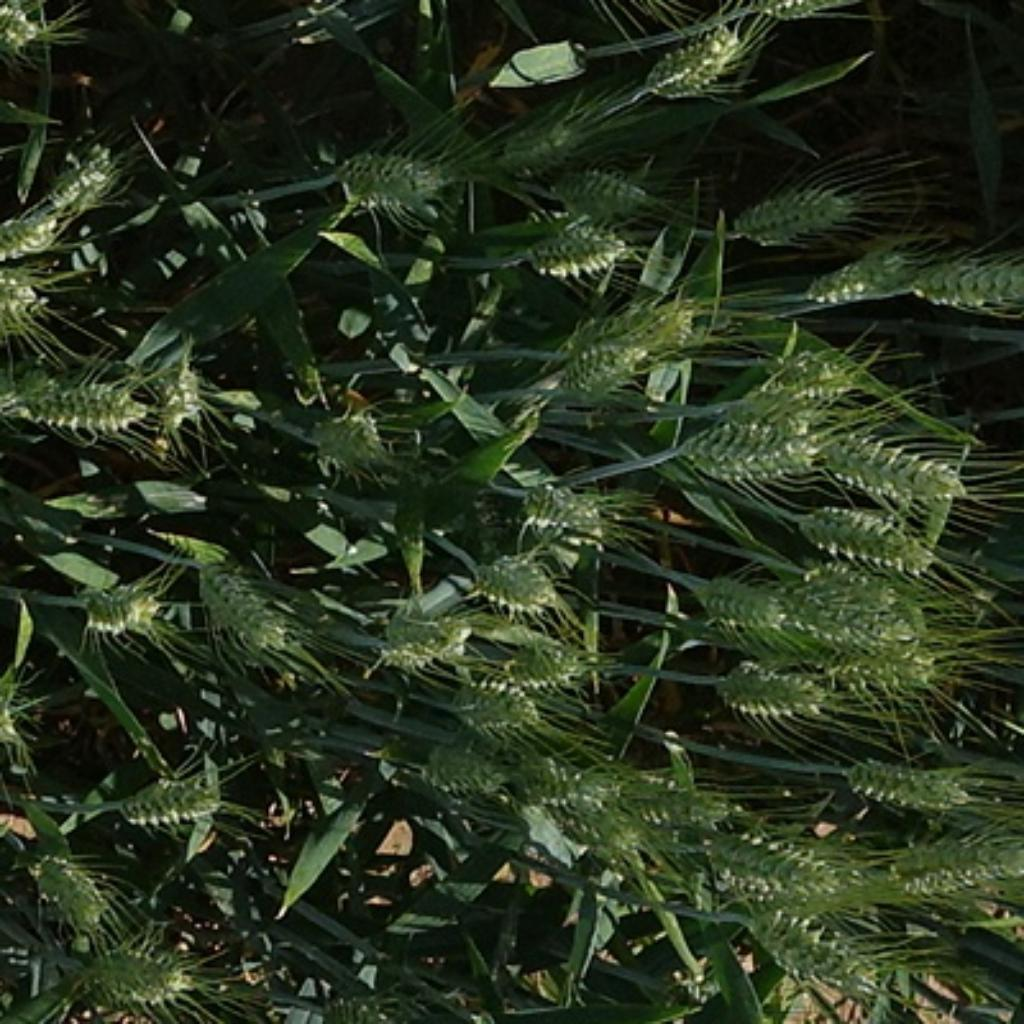0-0: (808, 417, 972, 506), (670, 396, 824, 488), (734, 903, 888, 988), (696, 821, 852, 901), (192, 547, 302, 659), (481, 101, 628, 183), (7, 364, 152, 441), (332, 135, 463, 220), (576, 281, 717, 358), (765, 588, 926, 655), (719, 174, 862, 245), (739, 337, 878, 409), (814, 634, 947, 706), (832, 747, 972, 814), (706, 652, 834, 724), (793, 501, 939, 563), (893, 829, 1024, 898), (640, 25, 749, 107), (373, 588, 473, 675), (35, 133, 133, 220), (118, 766, 235, 836), (79, 931, 184, 1008), (929, 235, 1024, 320), (512, 212, 632, 279), (509, 471, 624, 540), (801, 240, 924, 304), (69, 568, 171, 645), (597, 771, 730, 830), (488, 627, 601, 696), (686, 578, 806, 642), (492, 754, 622, 813), (793, 547, 903, 614), (304, 400, 396, 480), (25, 842, 112, 926), (560, 332, 653, 409), (465, 542, 563, 614), (707, 0, 889, 38), (543, 161, 661, 217), (454, 673, 548, 740), (0, 0, 86, 67), (155, 362, 224, 438), (416, 748, 501, 809), (0, 197, 76, 263), (555, 800, 651, 852), (0, 263, 58, 330)
